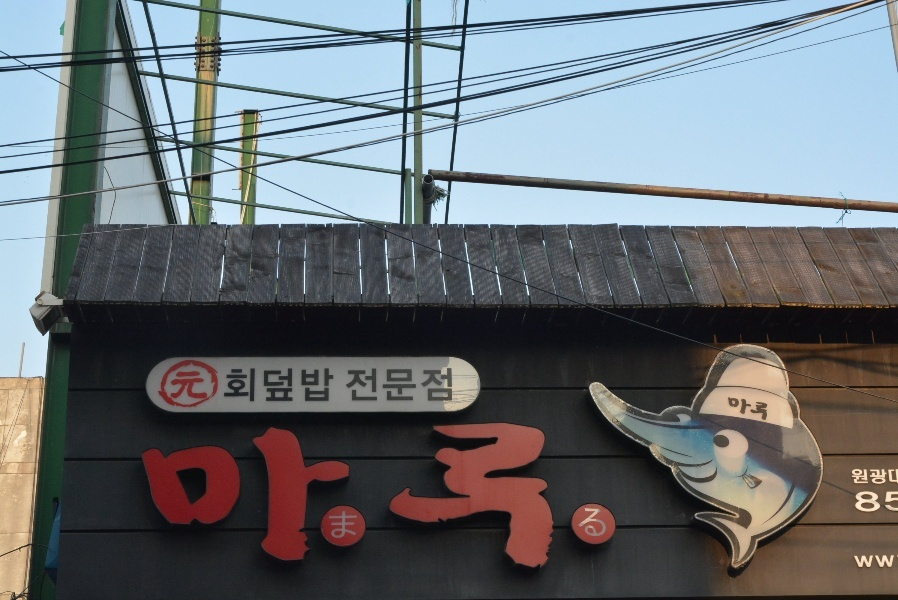text: (145, 422, 160, 571), (161, 422, 176, 571), (177, 422, 192, 571), (193, 422, 208, 571), (209, 422, 224, 571), (225, 422, 240, 571), (241, 422, 256, 571), (257, 422, 272, 571), (273, 422, 288, 571), (289, 422, 304, 571), (305, 422, 320, 571), (321, 422, 336, 571), (337, 422, 352, 571), (353, 422, 368, 571), (369, 422, 384, 571), (385, 422, 400, 571), (401, 422, 416, 571), (417, 422, 432, 571), (433, 422, 448, 571), (449, 422, 464, 571), (465, 422, 480, 571), (481, 422, 496, 571), (497, 422, 512, 571), (513, 422, 528, 571), (529, 422, 544, 571), (545, 422, 555, 571), (139, 422, 144, 571), (225, 367, 240, 403), (241, 367, 256, 403), (257, 367, 272, 403), (273, 367, 288, 403), (289, 367, 304, 403), (305, 367, 320, 403), (353, 368, 368, 403), (369, 368, 384, 403), (385, 368, 400, 403), (401, 368, 416, 403), (417, 368, 432, 403), (433, 368, 448, 403), (321, 367, 335, 403), (753, 397, 769, 422), (737, 397, 752, 422), (865, 491, 880, 514), (881, 491, 896, 514), (865, 469, 880, 487), (865, 554, 880, 571), (881, 554, 895, 571), (854, 491, 864, 514), (852, 469, 864, 487), (346, 368, 352, 403), (728, 397, 736, 422), (449, 368, 454, 403), (854, 554, 864, 571), (881, 469, 890, 487), (888, 468, 896, 484), (897, 491, 898, 514), (897, 468, 898, 484)
